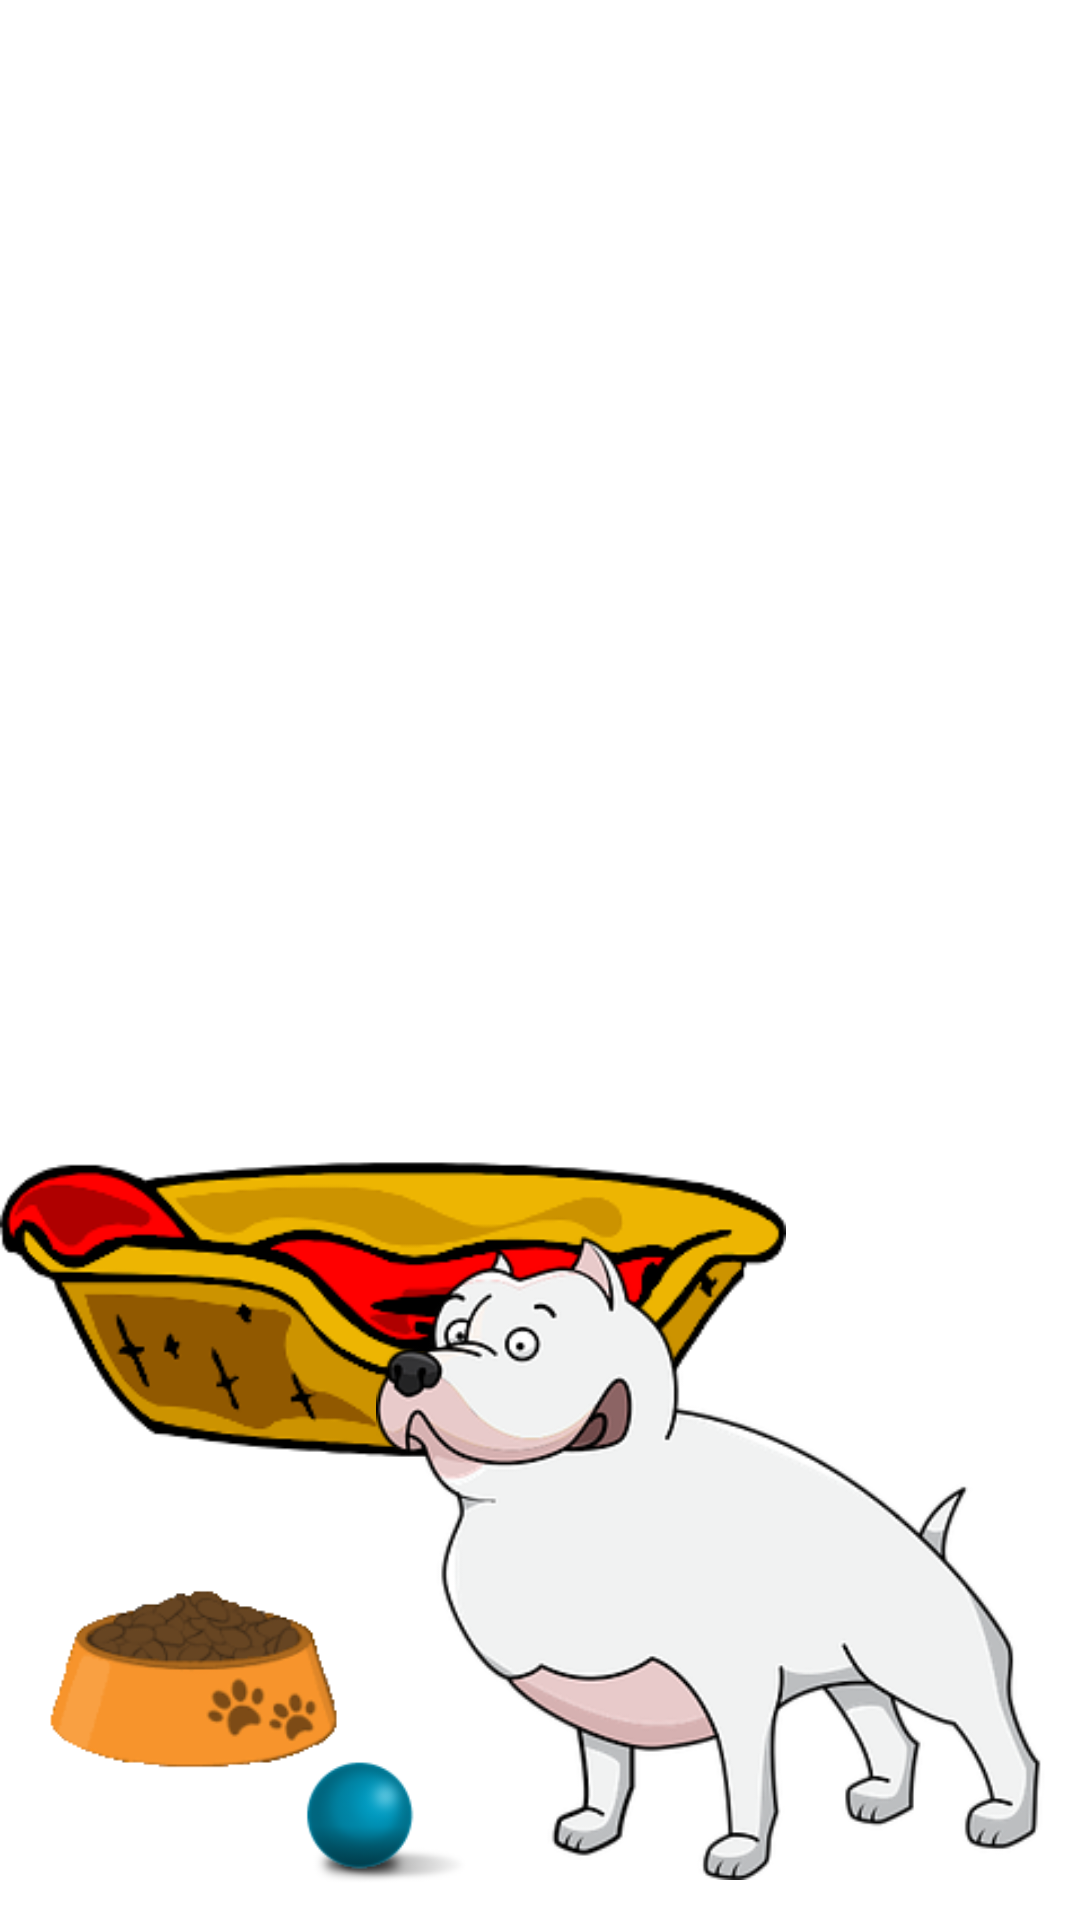

Point at icon controls on the screen. Image size 1080px×1920px, points as [x,y].
ball: [375,1820]
bowl: [193,1679]
